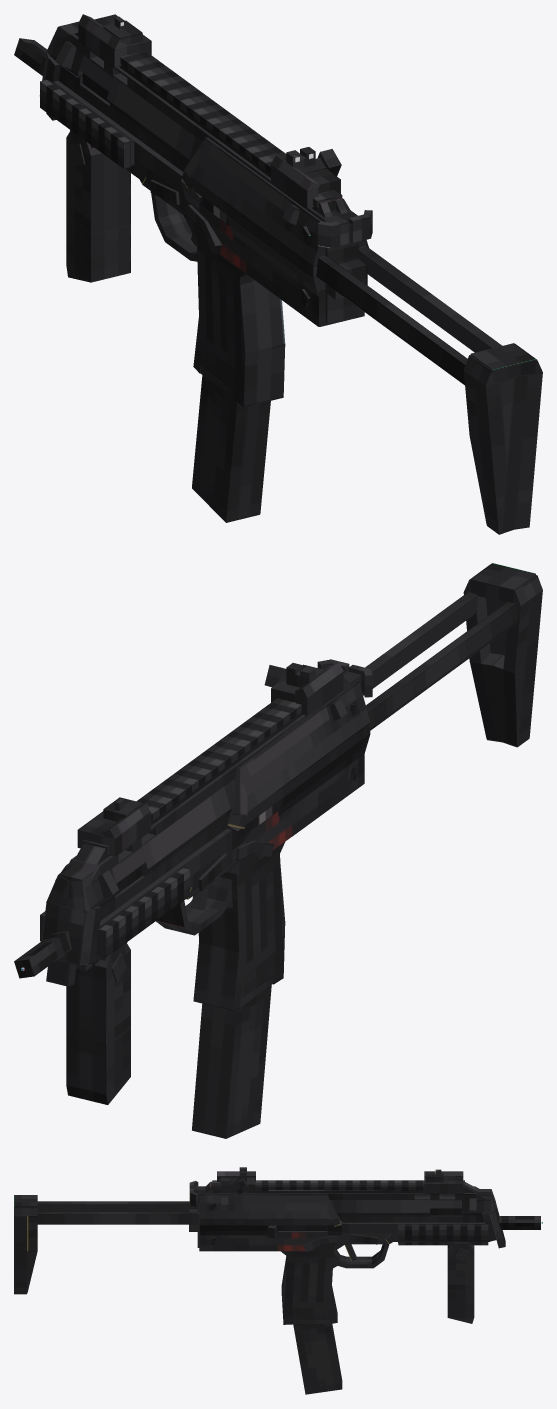
3 views of the same model, one above another, from view 1: azimuth 30°, elevation 25°; view 2: azimuth 150°, elevation 25°; view 3: azimuth 270°, elevation 25° (orthographic). The views are drawn at different scales.
Visible parts, largest first — view 1: gun_107, magazine_3, mp7grip_8, trirail_9; view 2: gun_107, magazine_3, mp7grip_8, trirail_9; view 3: gun_107, magazine_3, mp7grip_8, trirail_9, action_1.
Boxes of the visible parts, x1,y1,x2,y2 form: gun_107: (14, 14, 542, 534); magazine_3: (192, 367, 270, 522); mp7grip_8: (66, 130, 130, 282); trirail_9: (40, 79, 138, 178); gun_107: (14, 563, 542, 1010); magazine_3: (192, 976, 273, 1138); mp7grip_8: (66, 942, 130, 1104); trirail_9: (40, 868, 190, 970); gun_107: (14, 1167, 540, 1324); magazine_3: (293, 1319, 342, 1394); mp7grip_8: (445, 1242, 475, 1323); trirail_9: (398, 1224, 488, 1245); action_1: (278, 1225, 327, 1230).
Bounding box in the file's own units: 0.3973 × 2.14 × 4.66.
